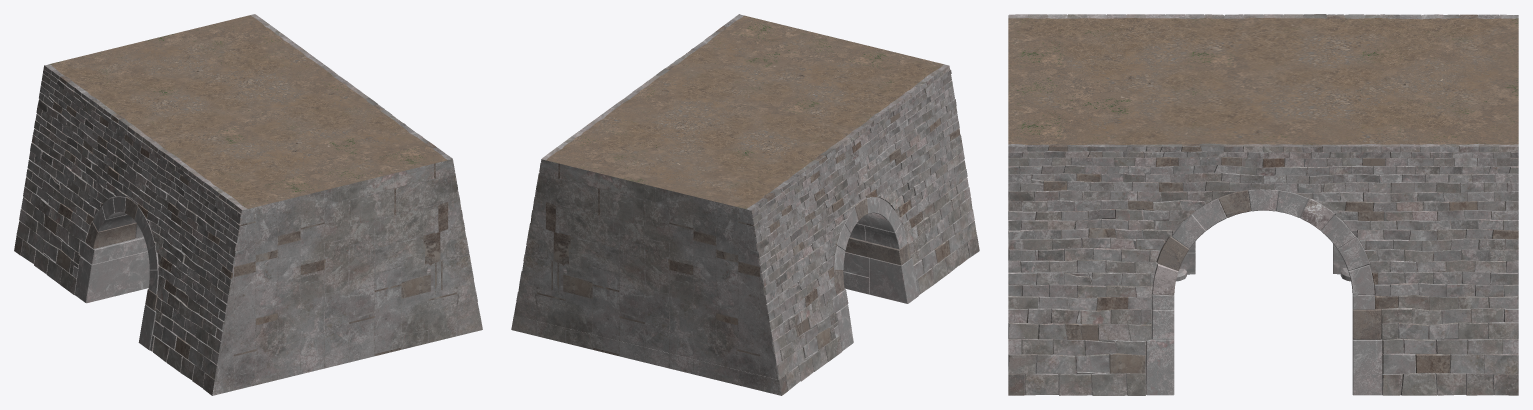
The model's file is SM_Dark_Gate03a.fbx.
The picture shows the model from 3 angles, left to right: view 1: azimuth 30°, elevation 25°; view 2: azimuth 150°, elevation 25°; view 3: azimuth 270°, elevation 25°; orthographic projection. The views are drawn at different scales.
Visible parts, largest first — view 1: SM_Dark_Gate03a; view 2: SM_Dark_Gate03a; view 3: SM_Dark_Gate03a.
Boxes of the visible parts, x1,y1,x2,y2 form: SM_Dark_Gate03a: (14,14,482,395); SM_Dark_Gate03a: (511,14,979,395); SM_Dark_Gate03a: (1008,14,1518,395).
Bounding box in the file's own units: 635 × 800 × 399.
Materials: 3 (3 with a texture image).
